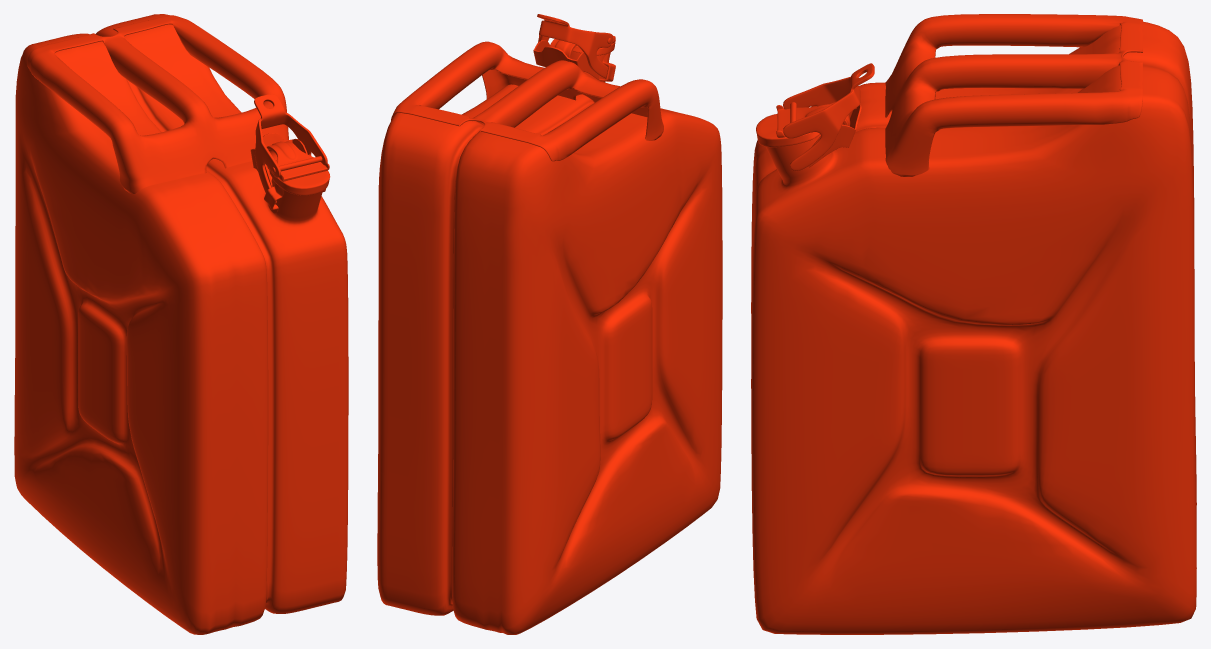
The model's file is jerry can.fbx.
The picture shows the model from 3 angles, left to right: view 1: azimuth 30°, elevation 25°; view 2: azimuth 150°, elevation 25°; view 3: azimuth 270°, elevation 25°; orthographic projection. The views are drawn at different scales.
Visible parts, largest first — view 1: can001; view 2: can001; view 3: can001.
Part boxes in pixels (x1,y1,x2,y2): can001: (14, 14, 348, 634); can001: (377, 14, 722, 634); can001: (751, 14, 1196, 634).
Bounding box in the file's own units: 3.55 × 9.66 × 7.07.
